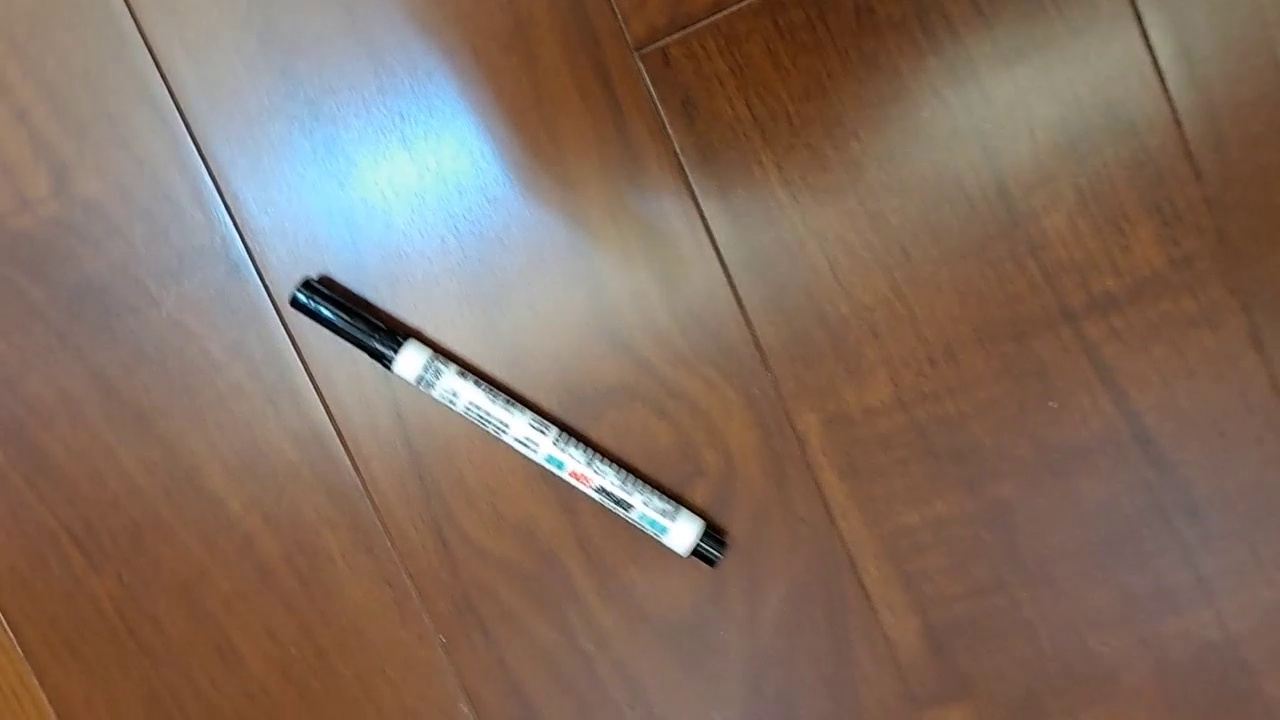pen: (286, 273, 730, 569)
